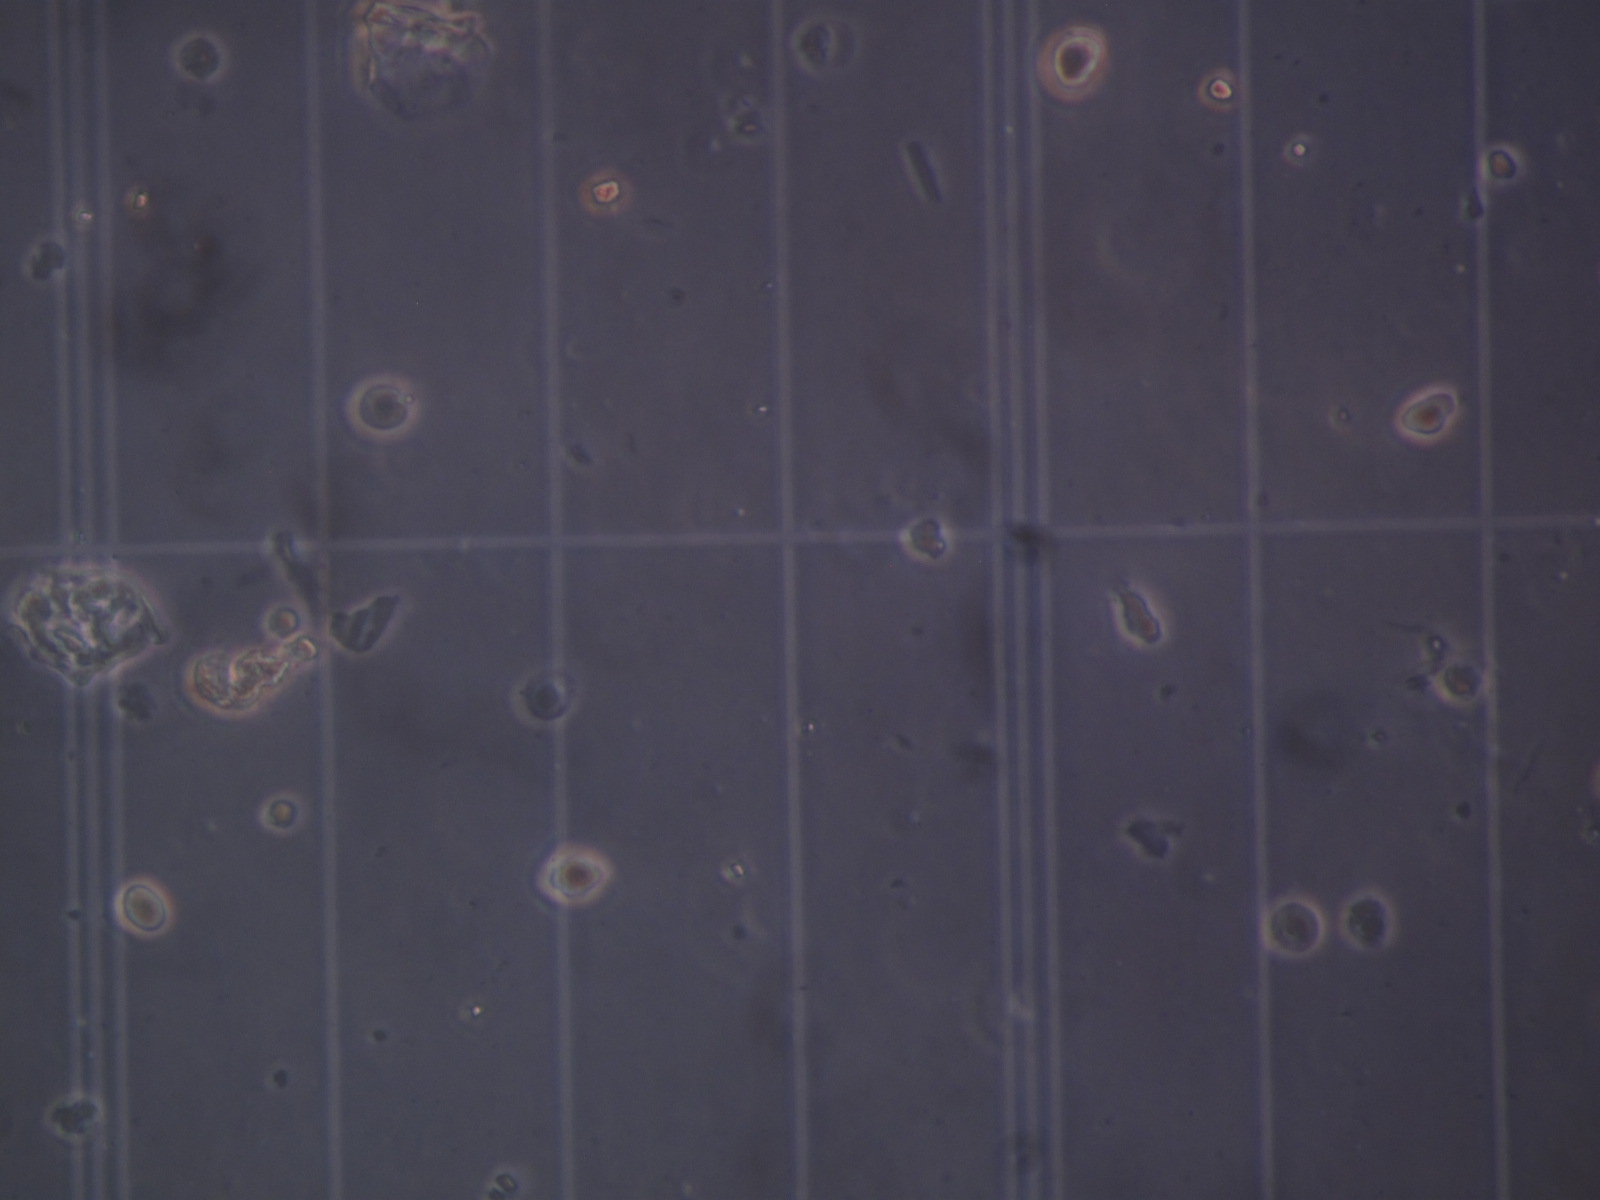hemo: (1041, 29, 1107, 100), (346, 374, 420, 435), (537, 846, 611, 905), (1262, 897, 1327, 958), (511, 671, 580, 725), (1393, 387, 1458, 442), (113, 879, 174, 937), (1340, 892, 1395, 955), (1112, 591, 1167, 650), (171, 33, 226, 84), (900, 513, 951, 560), (1436, 661, 1487, 706), (257, 794, 307, 836), (1196, 68, 1241, 111), (1482, 144, 1524, 184), (265, 605, 306, 640)
